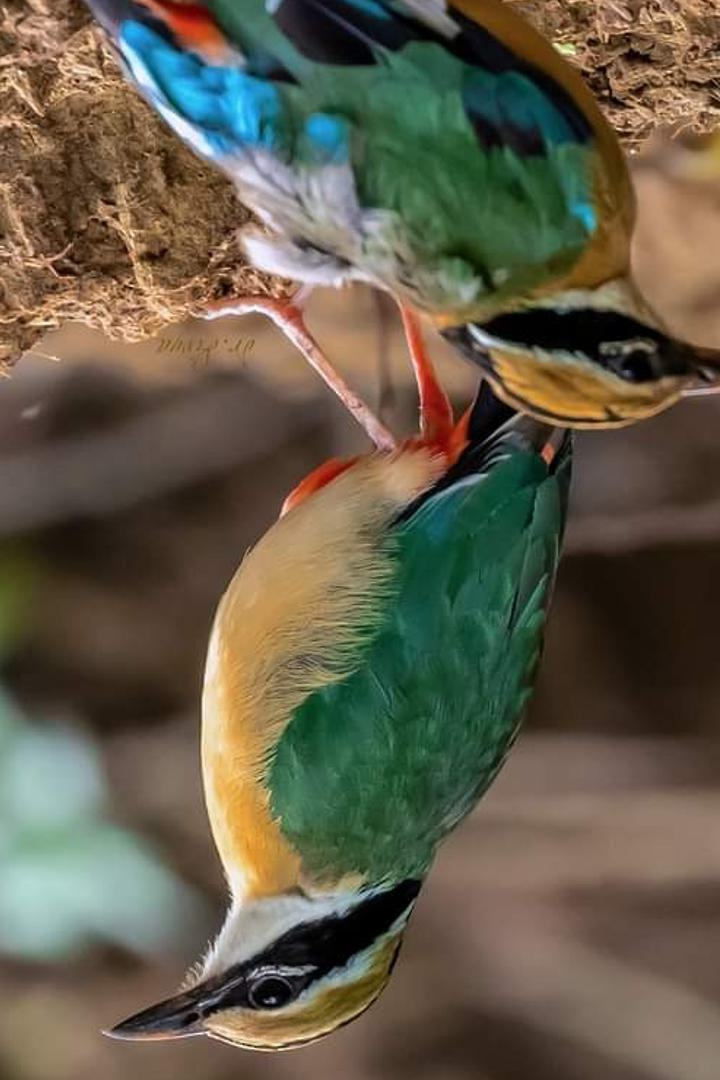pitta: (1, 370, 633, 1080)
